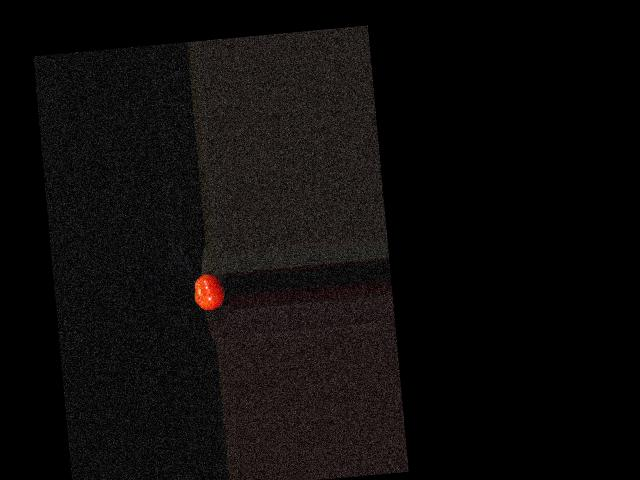tomato: (192, 272, 226, 312)
